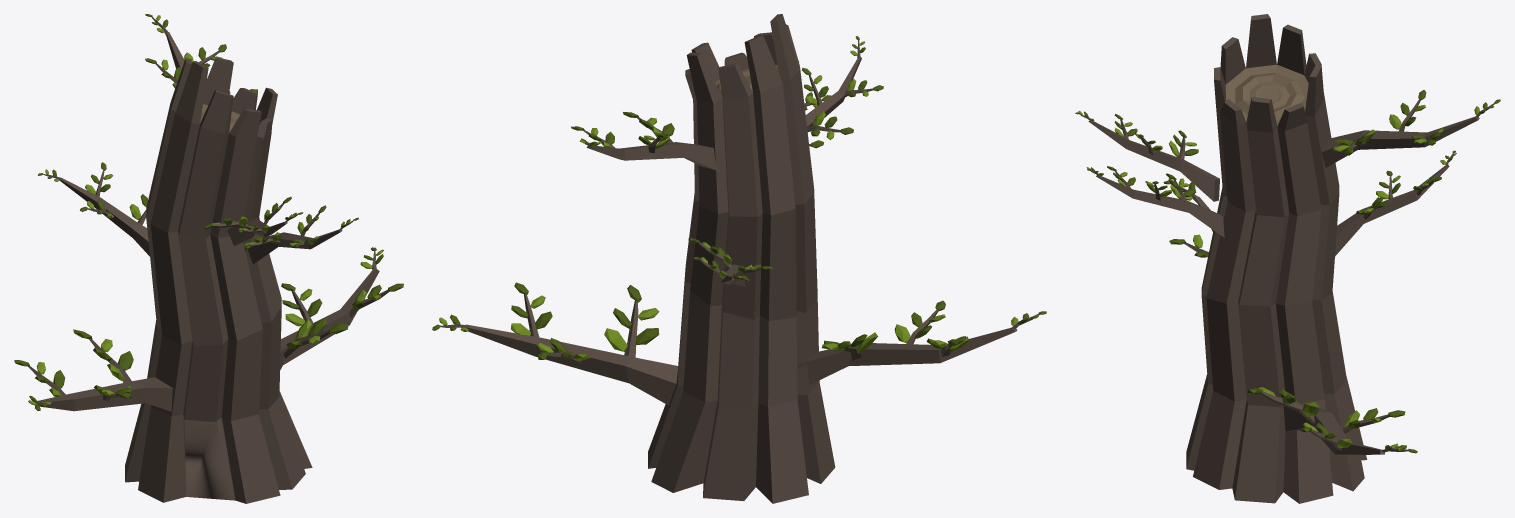
The model's file is tree_trunk_without_ground.fbx.
3 views of the same model, side by side, from view 1: azimuth 30°, elevation 25°; view 2: azimuth 150°, elevation 25°; view 3: azimuth 270°, elevation 25° (orthographic). The views are drawn at different scales.
Visible parts, largest first — view 1: Cylinder, Cube_Cube.004, Cube_Cube.007, Cube_Cube.006, Cube.001_Cube.016, Cube_Cube.003, Cube.001_Cube.024, Cube.001_Cube.011, Cube_Cube.002, Cube.001_Cube.022, Cube.001_Cube.006; view 2: Cylinder, Cube_Cube.007, Cube_Cube.004, Cube_Cube.005, Cube.001_Cube.016, Cube.001_Cube.006, Cube.001_Cube.023, Cube_Cube.002, Cube.001_Cube.024; view 3: Cylinder, Cube_Cube.005, Cube_Cube.002, Cube_Cube.007, Cube_Cube.003, Cube_Cube.006, Cube.001_Cube.016, Cube.001_Cube.011, Cube.001_Cube.027, Cube.001_Cube.006.
Part boxes in pixels (x1,y1,x2,y2): Cylinder: [125, 57, 312, 503]; Cube_Cube.004: [37, 377, 172, 411]; Cube_Cube.007: [280, 269, 379, 370]; Cube_Cube.006: [60, 177, 149, 256]; Cube.001_Cube.016: [284, 318, 348, 358]; Cube_Cube.003: [248, 229, 342, 264]; Cube.001_Cube.024: [73, 329, 133, 382]; Cube.001_Cube.011: [281, 283, 322, 326]; Cube_Cube.002: [227, 218, 287, 245]; Cube.001_Cube.022: [14, 360, 65, 396]; Cube.001_Cube.006: [349, 283, 403, 317]; Cylinder: [648, 14, 835, 503]; Cube_Cube.007: [465, 324, 677, 405]; Cube_Cube.004: [797, 328, 1017, 385]; Cube_Cube.005: [586, 142, 717, 170]; Cube.001_Cube.016: [604, 285, 659, 357]; Cube.001_Cube.006: [511, 282, 552, 337]; Cube.001_Cube.023: [894, 300, 945, 344]; Cube_Cube.002: [805, 57, 861, 127]; Cube.001_Cube.024: [821, 332, 877, 360]; Cylinder: [1186, 14, 1367, 503]; Cube_Cube.005: [1321, 116, 1479, 167]; Cube_Cube.002: [1088, 121, 1219, 201]; Cube_Cube.007: [1283, 406, 1384, 454]; Cube_Cube.003: [1096, 175, 1224, 237]; Cube_Cube.006: [1335, 165, 1449, 256]; Cube.001_Cube.016: [1247, 387, 1319, 423]; Cube.001_Cube.011: [1342, 408, 1405, 433]; Cube.001_Cube.027: [1389, 90, 1426, 131]; Cube.001_Cube.006: [1301, 422, 1352, 450].
Size of the model in its own units: 407 by 358 by 315.
